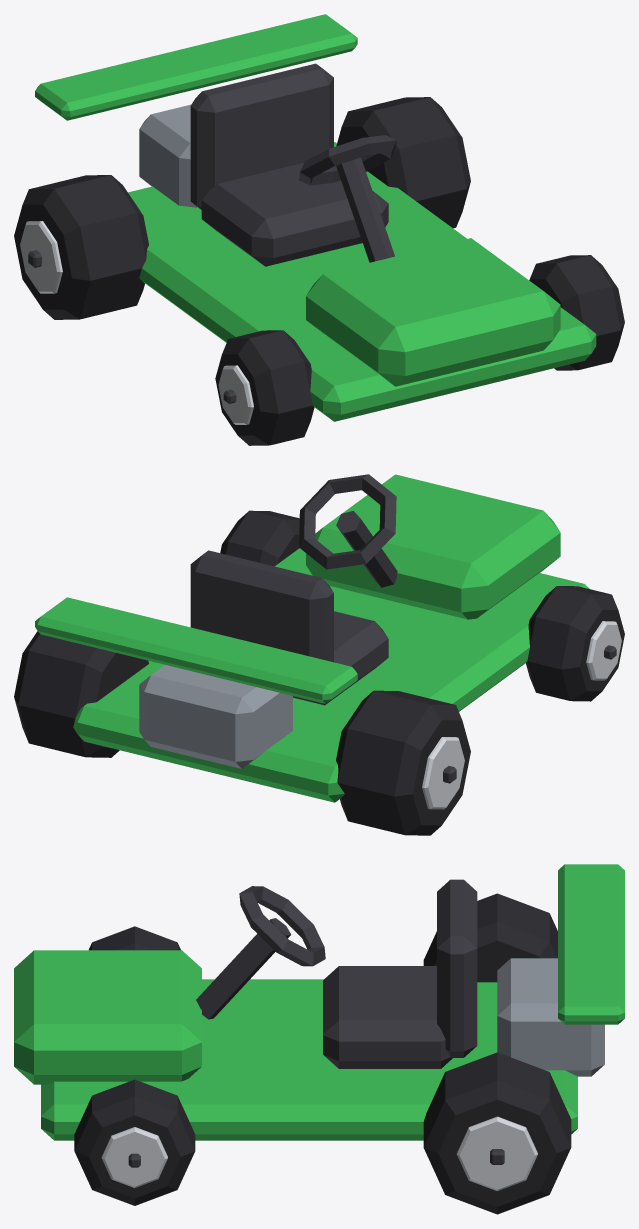
The model's file is GreenGoKart.fbx.
The picture shows the model from 3 angles, top to bottom: view 1: azimuth 30°, elevation 25°; view 2: azimuth 150°, elevation 25°; view 3: azimuth 270°, elevation 25°; orthographic projection. The views are drawn at different scales.
Parts seen in each view (by area): view 1: GreenGoKart, GreenGoKart_WheelBR, GreenGoKart_WheelBL, GreenGoKart_WheelFR, GreenGoKart_WheelFL; view 2: GreenGoKart, GreenGoKart_WheelBR, GreenGoKart_WheelBL, GreenGoKart_WheelFR, GreenGoKart_WheelFL; view 3: GreenGoKart, GreenGoKart_WheelBL, GreenGoKart_WheelFL, GreenGoKart_WheelBR, GreenGoKart_WheelFR.
Boxes of the visible parts, x1,y1,x2,y2 form: GreenGoKart: (35, 14, 596, 421); GreenGoKart_WheelBR: (14, 175, 148, 319); GreenGoKart_WheelBL: (336, 97, 470, 228); GreenGoKart_WheelFR: (215, 330, 314, 445); GreenGoKart_WheelFL: (529, 255, 624, 370); GreenGoKart: (35, 474, 589, 802); GreenGoKart_WheelBR: (336, 690, 470, 835); GreenGoKart_WheelBL: (14, 631, 148, 757); GreenGoKart_WheelFR: (526, 586, 624, 701); GreenGoKart_WheelFL: (220, 510, 299, 566); GreenGoKart: (14, 864, 624, 1140); GreenGoKart_WheelBL: (423, 1052, 571, 1214); GreenGoKart_WheelFL: (74, 1079, 195, 1205); GreenGoKart_WheelBR: (423, 893, 557, 982); GreenGoKart_WheelFR: (89, 926, 180, 950).
Size of the model in its own units: 3.72 by 1.88 by 4.55.
1 material, 1 textured.
